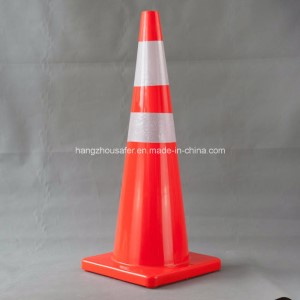traffic cone: (82, 9, 220, 289)
